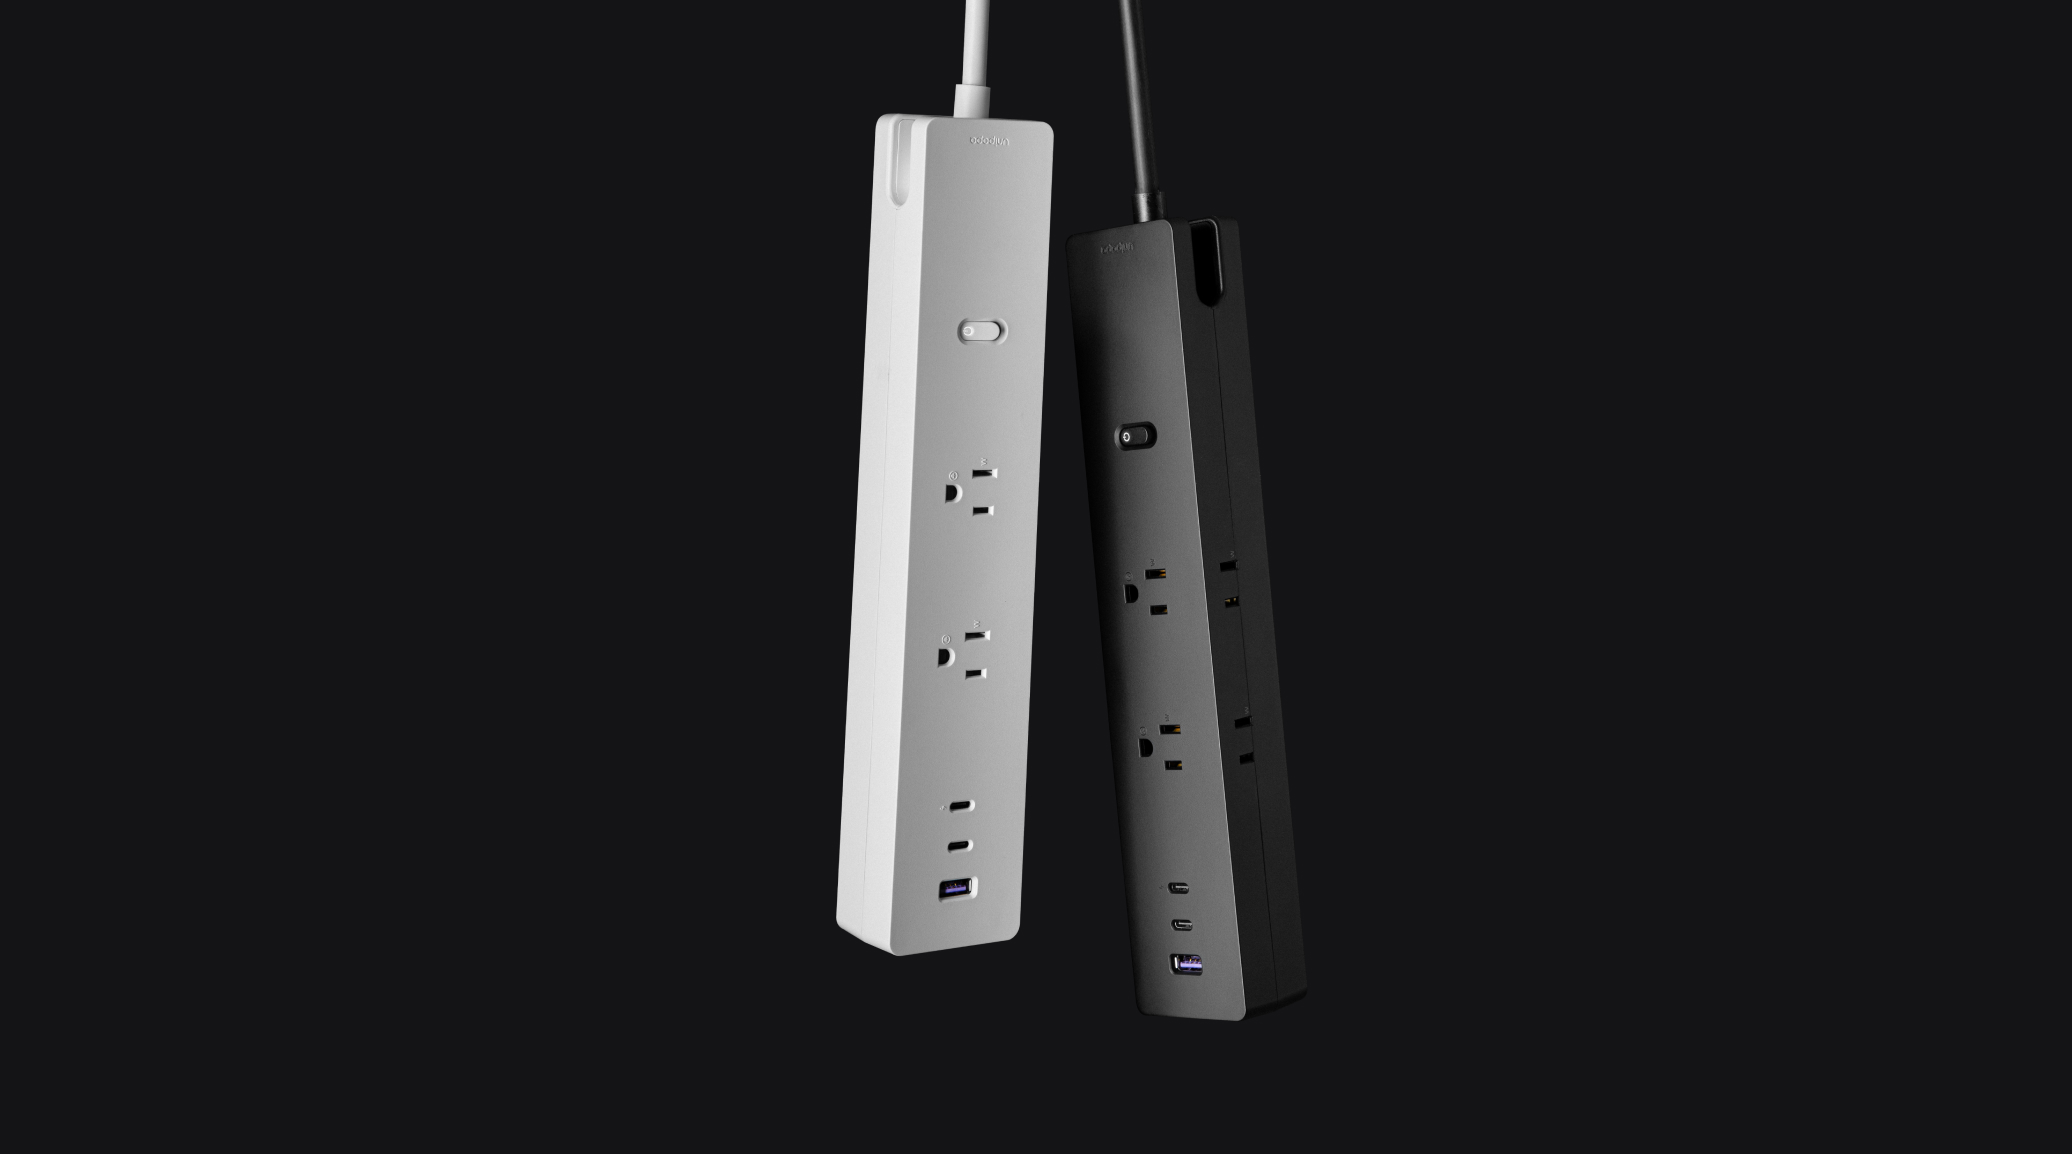socket: (1064, 189, 1322, 1025), (823, 81, 1053, 961)
